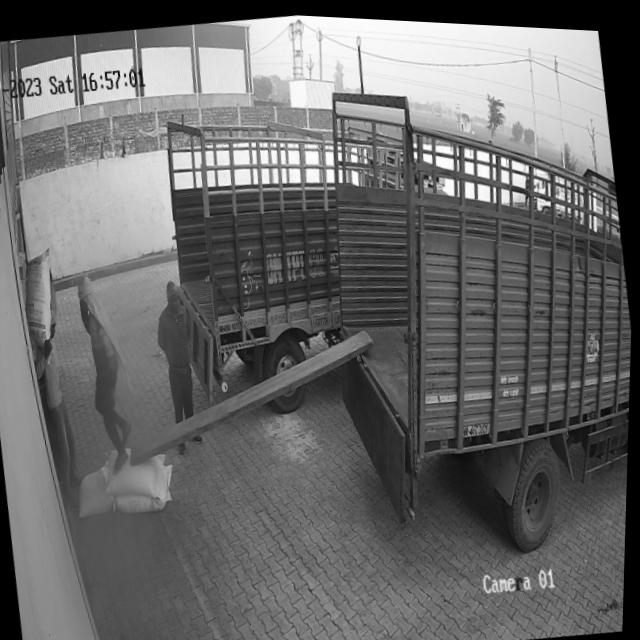sack: (18, 247, 64, 351), (101, 439, 174, 503), (111, 459, 181, 515), (75, 465, 120, 519)
